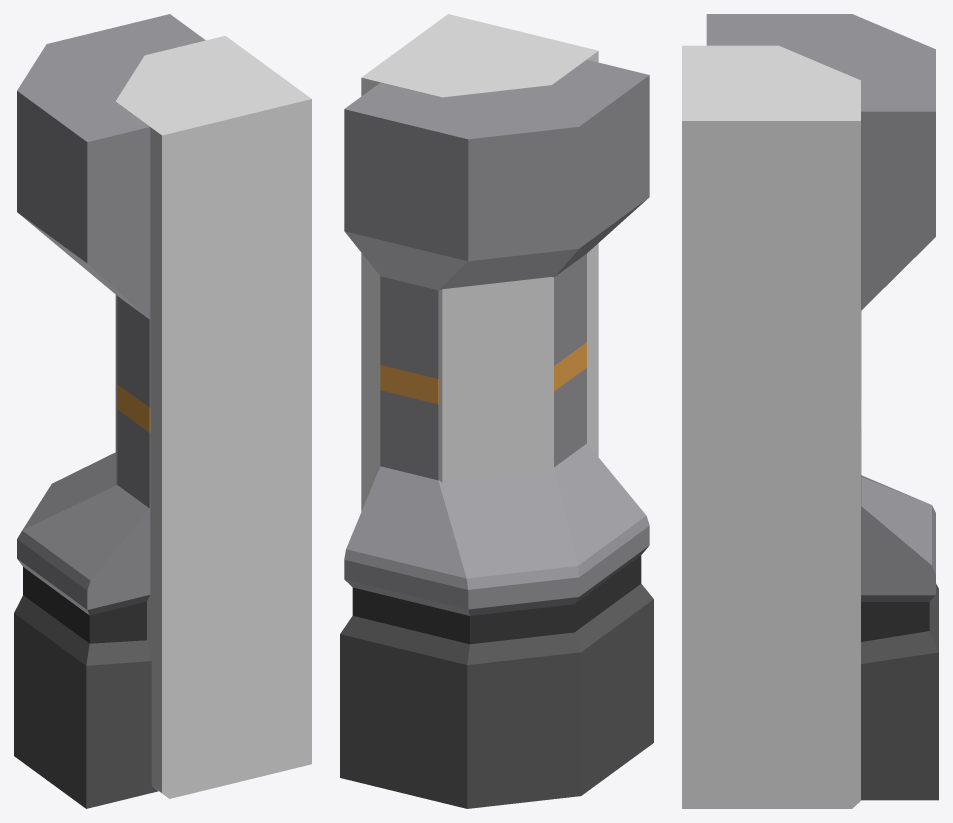
The model's file is SM_Bld_Wall_Corner_Pillar_Wide_05.fbx.
3 views of the same model, side by side, from view 1: azimuth 30°, elevation 25°; view 2: azimuth 150°, elevation 25°; view 3: azimuth 270°, elevation 25° (orthographic). The views are drawn at different scales.
Visible parts, largest first — view 1: SM_Bld_Wall_Corner_Pillar_Wide_05_ConvexHulls, SM_Bld_Wall_Corner_Pillar_Wide_05_LOD0; view 2: SM_Bld_Wall_Corner_Pillar_Wide_05_LOD0, SM_Bld_Wall_Corner_Pillar_Wide_05_ConvexHulls; view 3: SM_Bld_Wall_Corner_Pillar_Wide_05_ConvexHulls, SM_Bld_Wall_Corner_Pillar_Wide_05_LOD0.
Boxes of the visible parts, left/top/right/bottom form: SM_Bld_Wall_Corner_Pillar_Wide_05_ConvexHulls: left=115, top=35, right=311, bottom=798; SM_Bld_Wall_Corner_Pillar_Wide_05_LOD0: left=14, top=14, right=205, bottom=808; SM_Bld_Wall_Corner_Pillar_Wide_05_LOD0: left=340, top=59, right=653, bottom=808; SM_Bld_Wall_Corner_Pillar_Wide_05_ConvexHulls: left=361, top=14, right=598, bottom=511; SM_Bld_Wall_Corner_Pillar_Wide_05_ConvexHulls: left=682, top=45, right=860, bottom=808; SM_Bld_Wall_Corner_Pillar_Wide_05_LOD0: left=706, top=14, right=938, bottom=800.
Bounding box in the file's own units: 172 × 172 × 509.
1 material, 1 textured.
